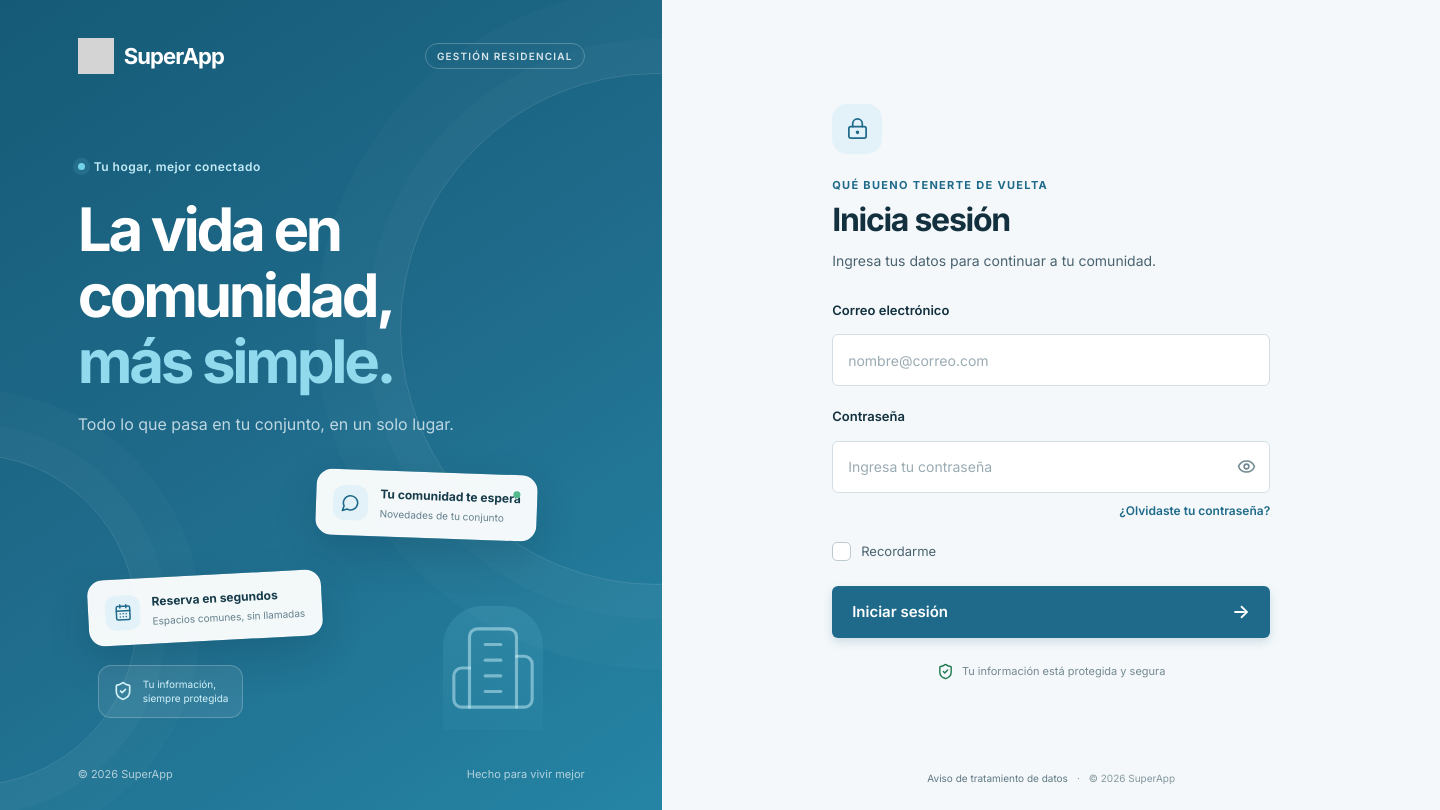
Test: LoginPage › shows one generic credential message when login returns 401
Type "persona@correo.co" into the field labelled "Correo electrónico" at x=1051, y=360, box [833, 335, 1269, 385]
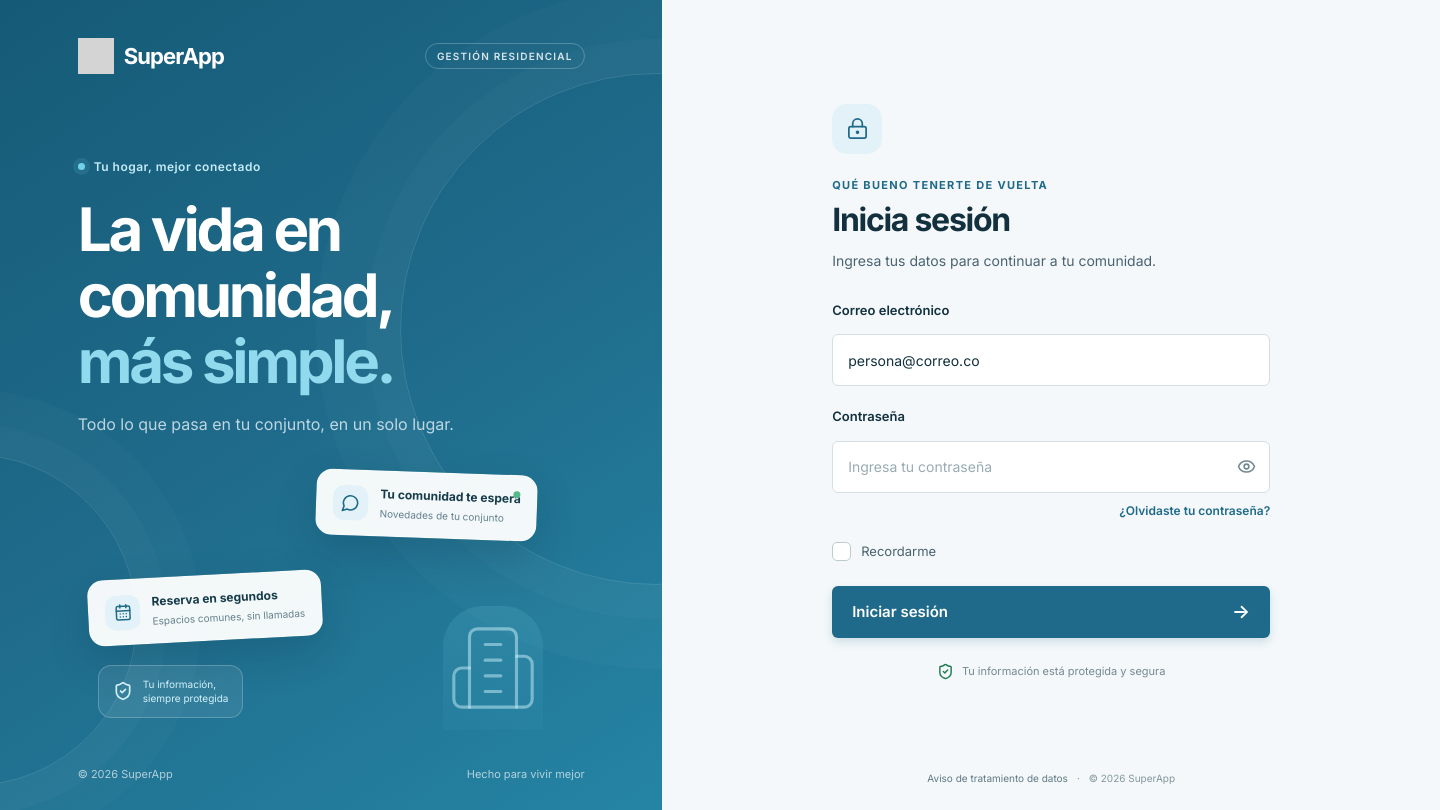
Type "incorrecta" into the password field labelled "Contraseña" at x=1028, y=467, box [833, 442, 1223, 492]
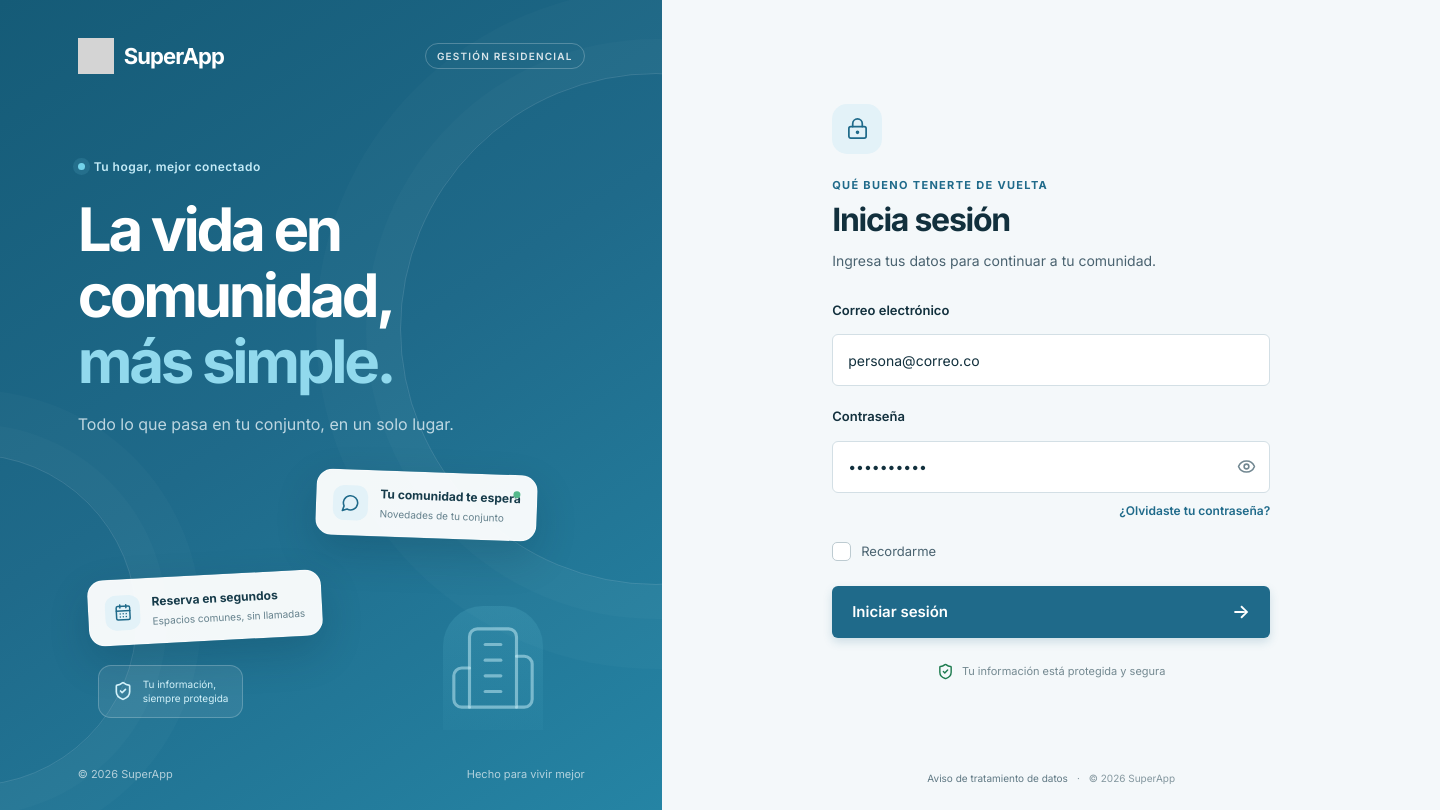
Click the button "Iniciar sesión →" at x=900, y=611, box [832, 586, 1270, 638]
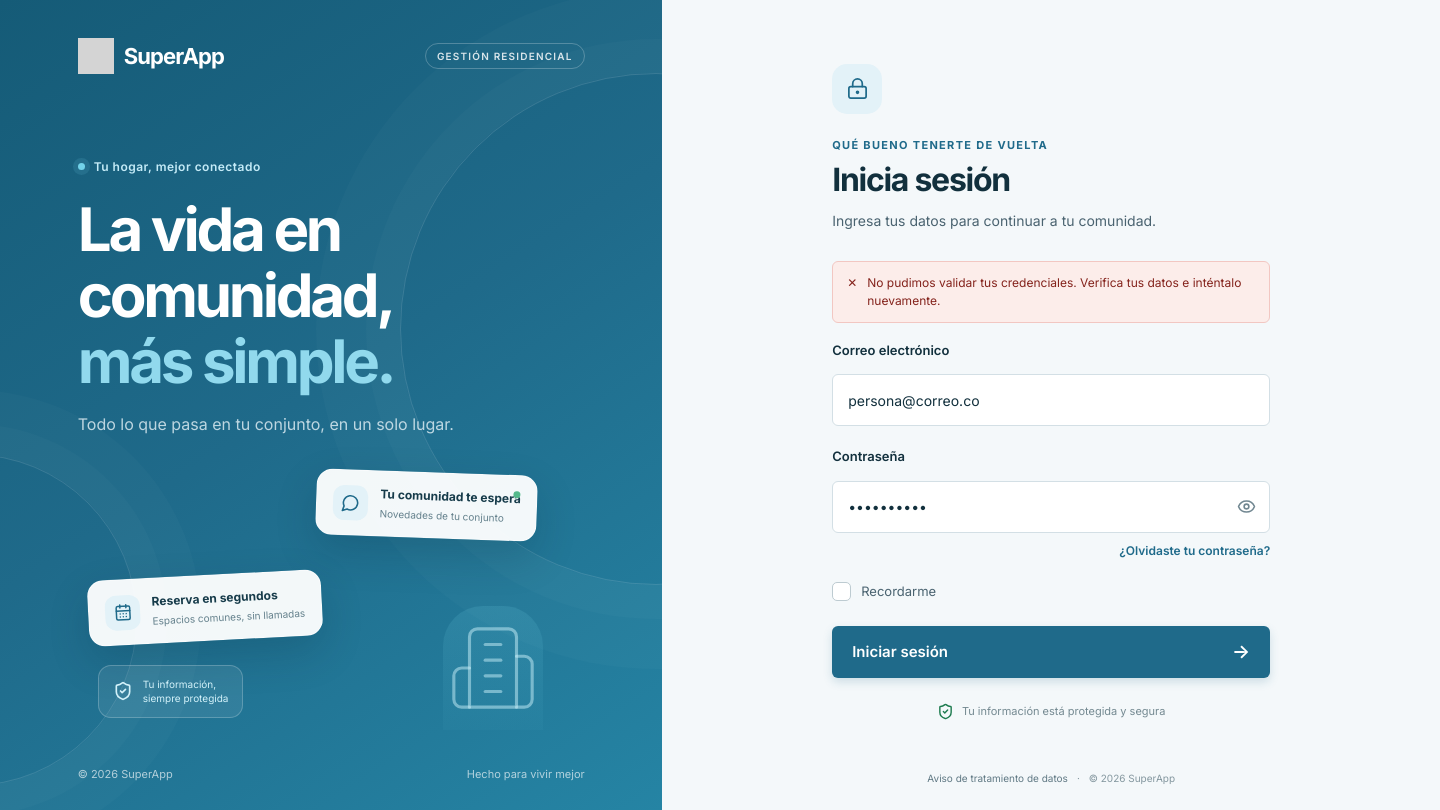
Check: the message shows "No pudimos validar tus credenciales. Verifica tus datos e inténtalo nuevamente.", box [867, 275, 1241, 308]
